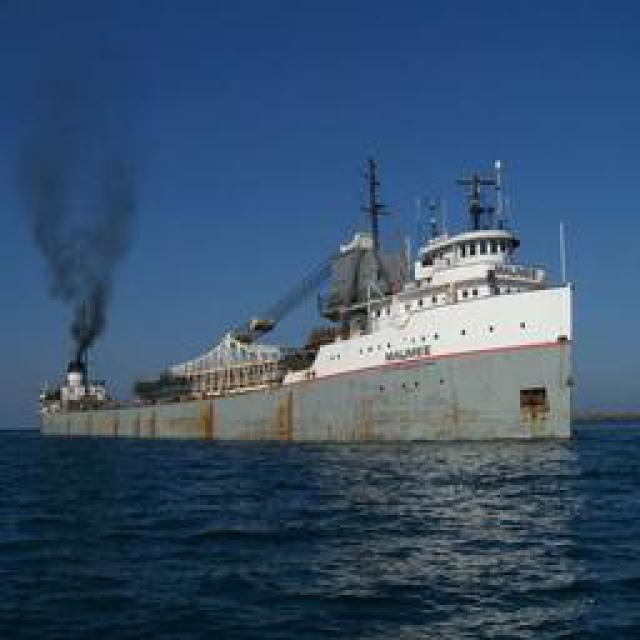Ship: (91, 159, 579, 449)
